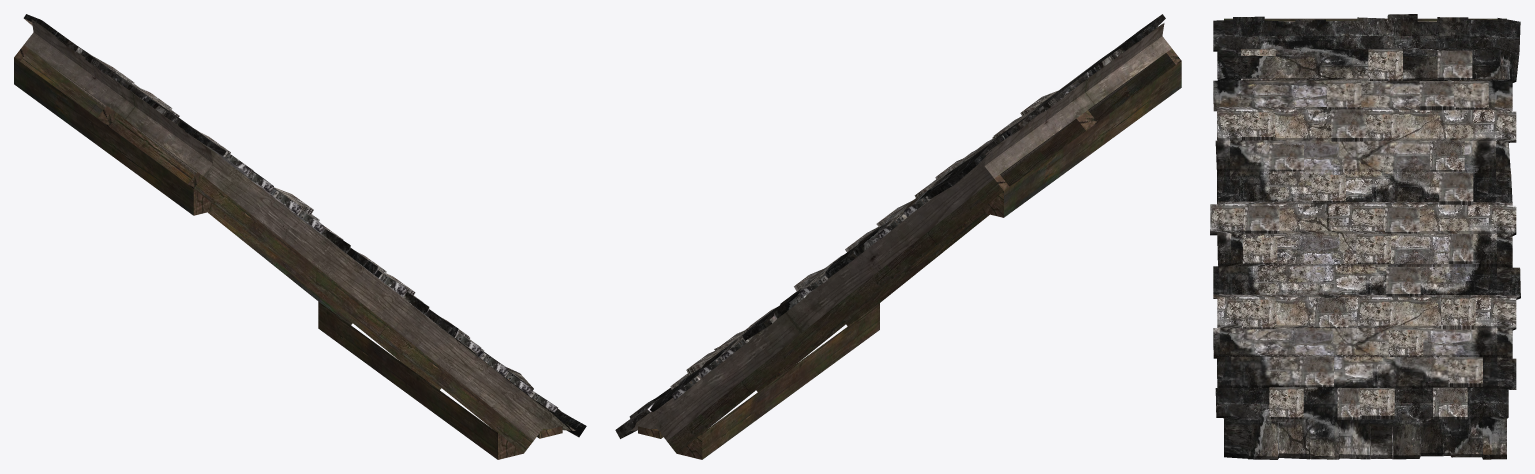
3 views of the same model, side by side, from view 1: azimuth 30°, elevation 25°; view 2: azimuth 150°, elevation 25°; view 3: azimuth 270°, elevation 25° (orthographic). The views are drawn at different scales.
Visible parts, largest first — view 1: SM_BB_T3_Roof_Large_Diagonal_LOD0; view 2: SM_BB_T3_Roof_Large_Diagonal_LOD0; view 3: SM_BB_T3_Roof_Large_Diagonal_LOD0.
Part boxes in pixels (x1,y1,x2,y2): SM_BB_T3_Roof_Large_Diagonal_LOD0: [14, 14, 586, 459]; SM_BB_T3_Roof_Large_Diagonal_LOD0: [615, 14, 1181, 459]; SM_BB_T3_Roof_Large_Diagonal_LOD0: [1210, 14, 1520, 459].
Size of the model in its own units: 3.85 by 3.56 by 3.3.
3 materials, 3 textured.
